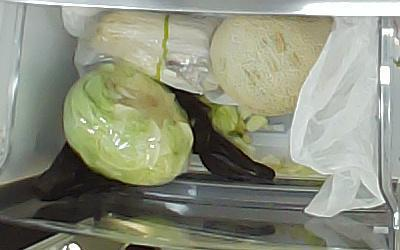cabbage_vinyl: (64, 63, 192, 185), (92, 12, 214, 96)
melon: (210, 15, 336, 116)
